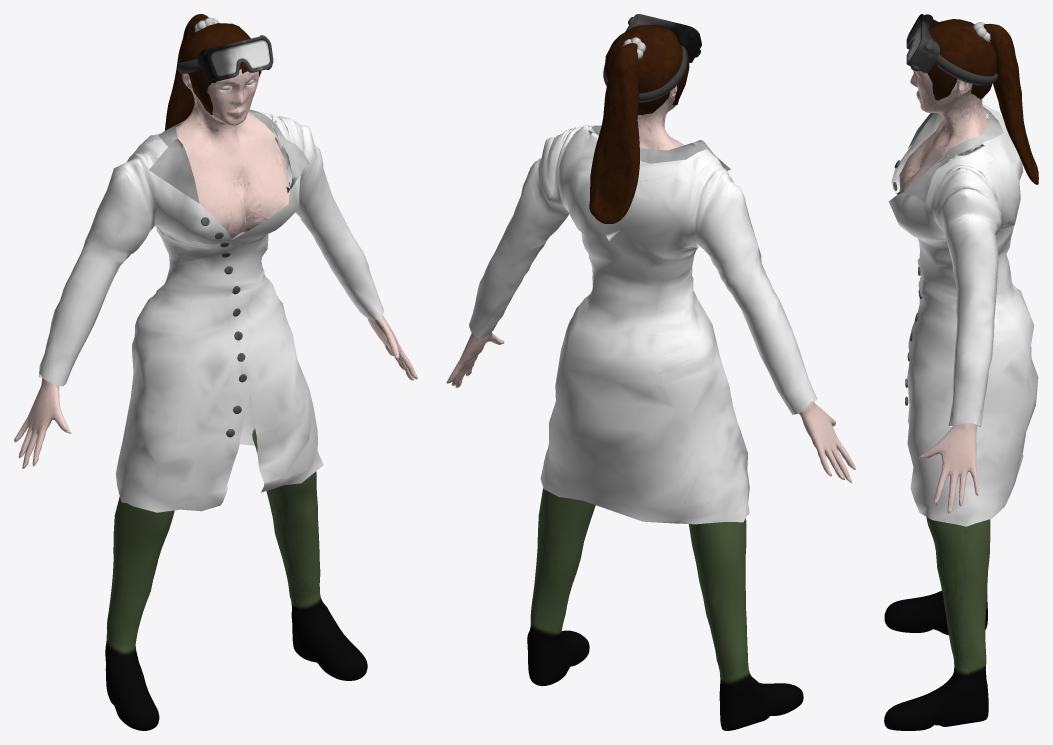
File: profJoJo.dae
3 views of the same model, side by side, from view 1: azimuth 30°, elevation 25°; view 2: azimuth 150°, elevation 25°; view 3: azimuth 270°, elevation 25° (orthographic). The views are drawn at different scales.
Visible parts, largest first — view 1: PrefJoJoMesh; view 2: PrefJoJoMesh; view 3: PrefJoJoMesh.
Boxes of the visible parts, x1,y1,x2,y2 form: PrefJoJoMesh: (14, 14, 417, 730); PrefJoJoMesh: (446, 14, 855, 730); PrefJoJoMesh: (884, 14, 1038, 730).
Size of the model in its own units: 1.07 by 1.72 by 0.3685.
1 material, 1 textured.
